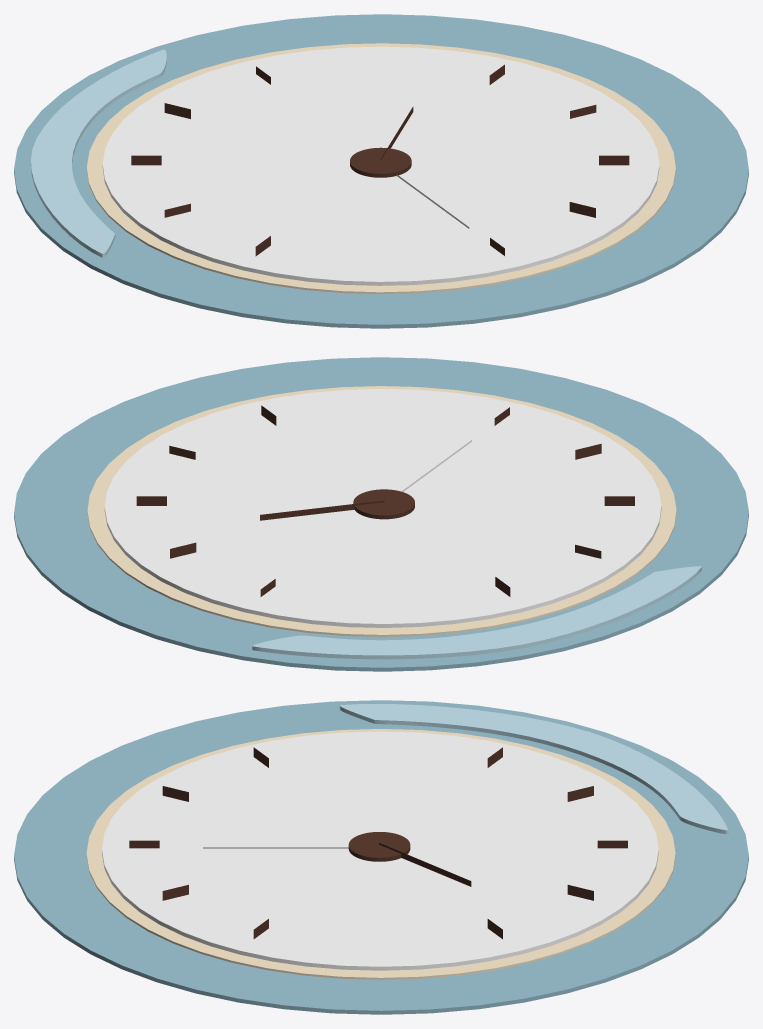
The model's file is emoji_u1f55c.glb.
3 renders of one model, top to bottom at view 1: azimuth 30°, elevation 25°; view 2: azimuth 150°, elevation 25°; view 3: azimuth 270°, elevation 25°, orthographic.
Parts seen in each view (by area): view 1: emoji_u1f55c; view 2: emoji_u1f55c; view 3: emoji_u1f55c.
Boxes of the visible parts, bbox=[...] form: emoji_u1f55c: bbox=[14, 14, 748, 328]; emoji_u1f55c: bbox=[14, 357, 748, 671]; emoji_u1f55c: bbox=[14, 700, 748, 1014].
Size of the model in its own units: 0.0339 by 0.0018 by 0.0339.
